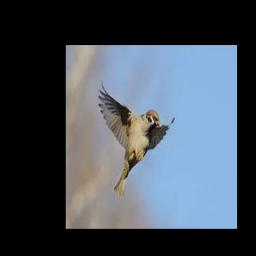Sparrow: (99, 82, 175, 196)
